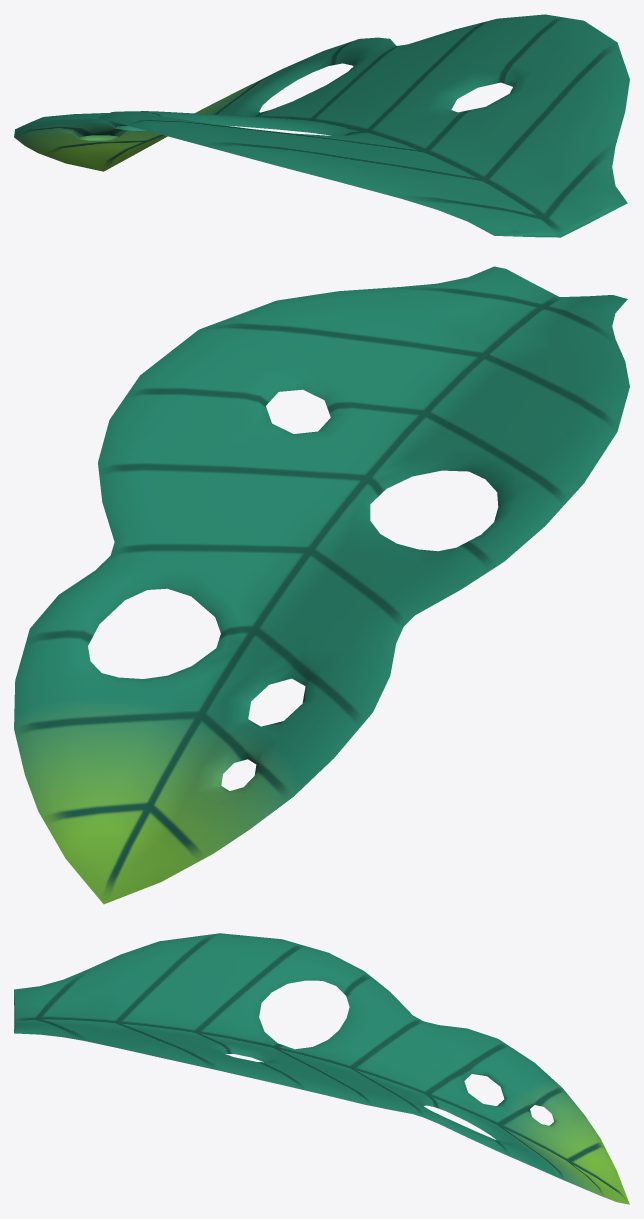
Rendered from Leaf_01.fbx.
3 views of the same model, one above another, from view 1: azimuth 30°, elevation 25°; view 2: azimuth 150°, elevation 25°; view 3: azimuth 270°, elevation 25° (orthographic). The views are drawn at different scales.
Parts seen in each view (by area): view 1: leafF_01.001; view 2: leafF_01.001; view 3: leafF_01.001.
Part boxes in pixels (x1,y1,x2,y2): leafF_01.001: (14,14,629,237); leafF_01.001: (14,266,629,904); leafF_01.001: (14,933,629,1204).
Bounding box in the file's own units: 42.26 × 27.89 × 75.44.
